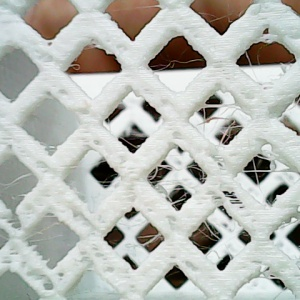3dpstringing: (142, 146, 212, 211), (191, 90, 256, 148), (23, 215, 89, 268), (185, 216, 248, 266), (107, 216, 171, 265), (231, 151, 296, 199), (2, 167, 43, 207), (144, 54, 209, 75), (116, 124, 152, 154), (242, 48, 267, 91), (197, 9, 248, 27), (143, 4, 173, 14), (67, 62, 84, 72)
3dpunderextrusion: (3, 247, 58, 293), (74, 243, 129, 284), (50, 83, 96, 120), (151, 95, 187, 142)
